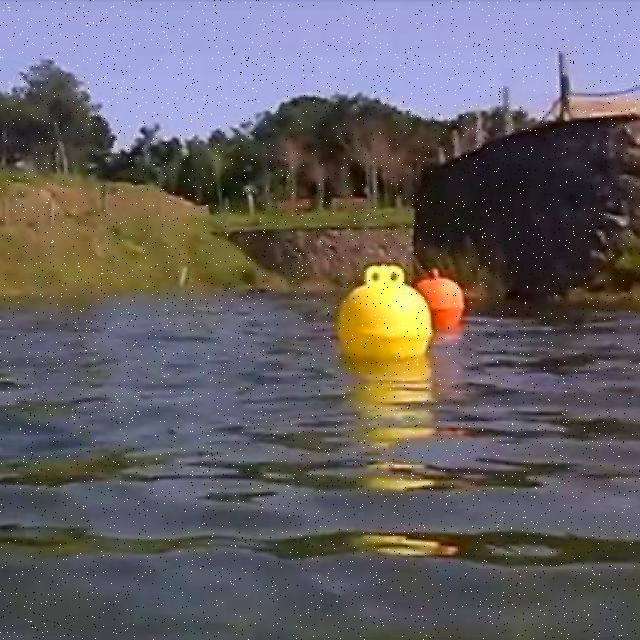buoy: (337, 265, 432, 357), (416, 270, 464, 326)
